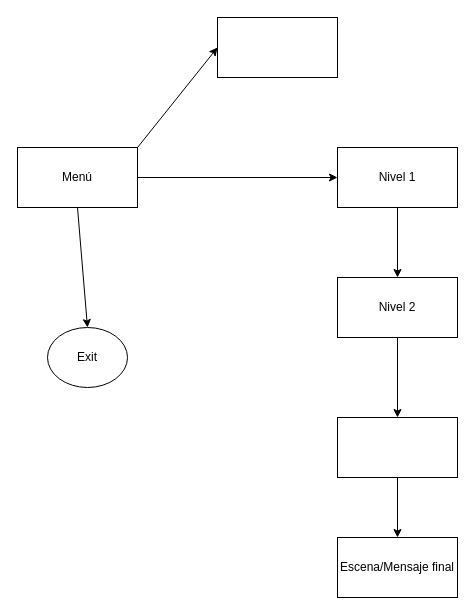
The diagram is 475 pixels wide and 615 high, and some of its shapes have lost their labels. The box of each missing label's shape, as (x1, y1, x2, y2) in pixels:
Nivel 3: (336, 416, 458, 478)
Opciones: (216, 16, 338, 78)
